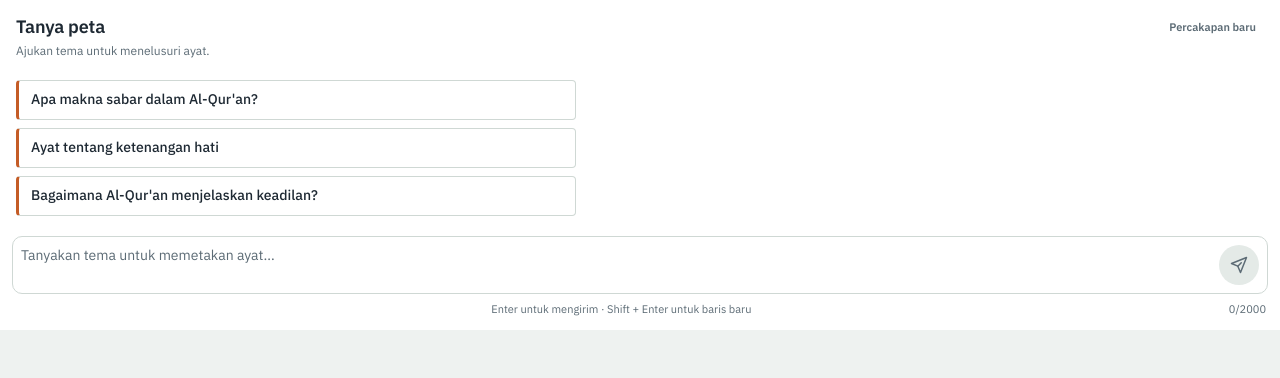
Test: question lifecycle › can cancel and removes indefinite processing state
The width and height of the screenshot is (1280, 378).
In the text box: (616, 265) [21, 245, 1211, 285], type "Sabar"
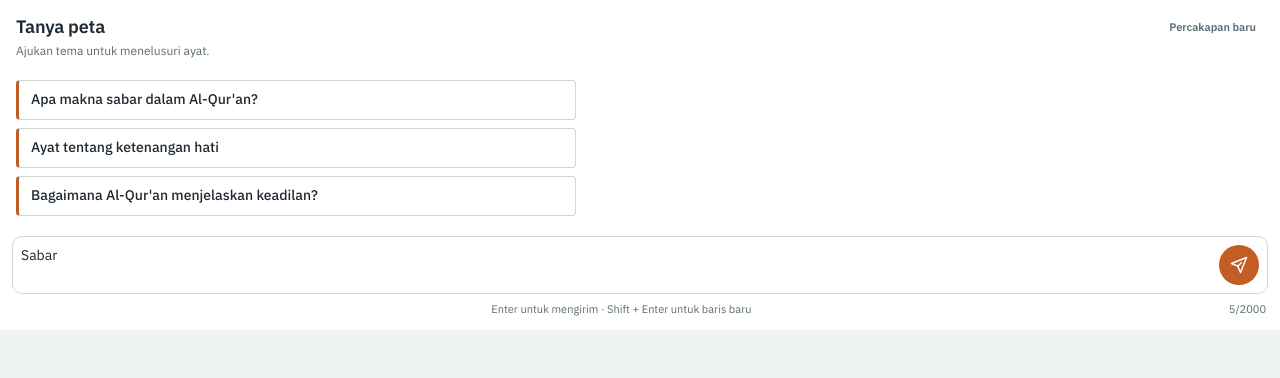
Click the button named "Kirim pertanyaan": click(1239, 265) [1219, 245, 1259, 285]
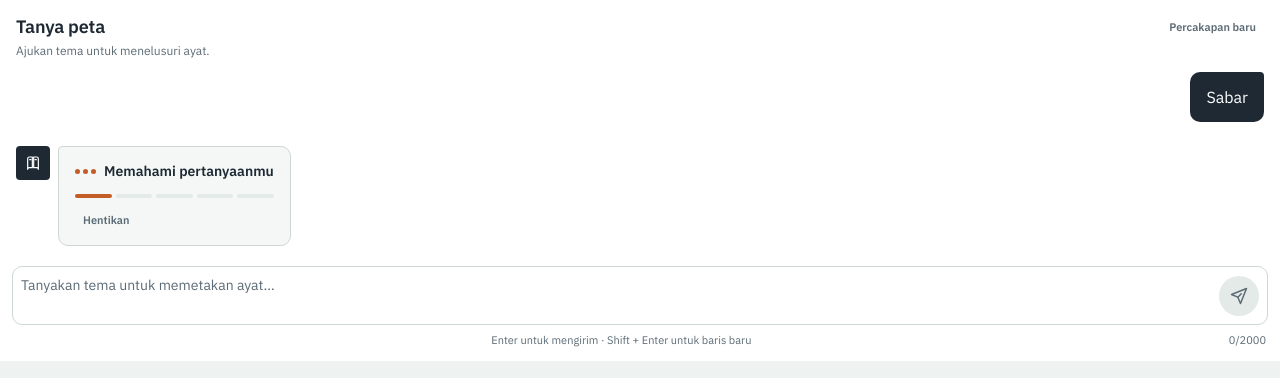
Click the button "Hentikan": click(106, 220) [75, 209, 137, 232]
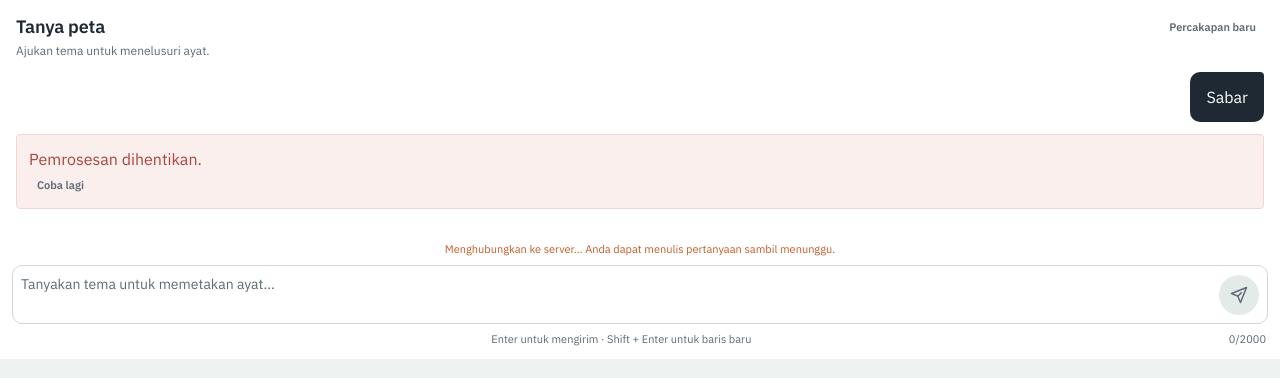
Check: the text box is enabled, box [21, 274, 1211, 315]
